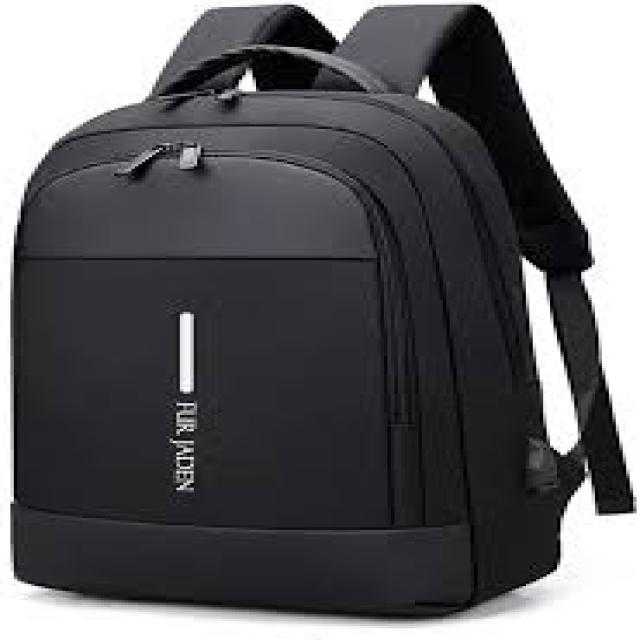backpack: (8, 1, 637, 618)
